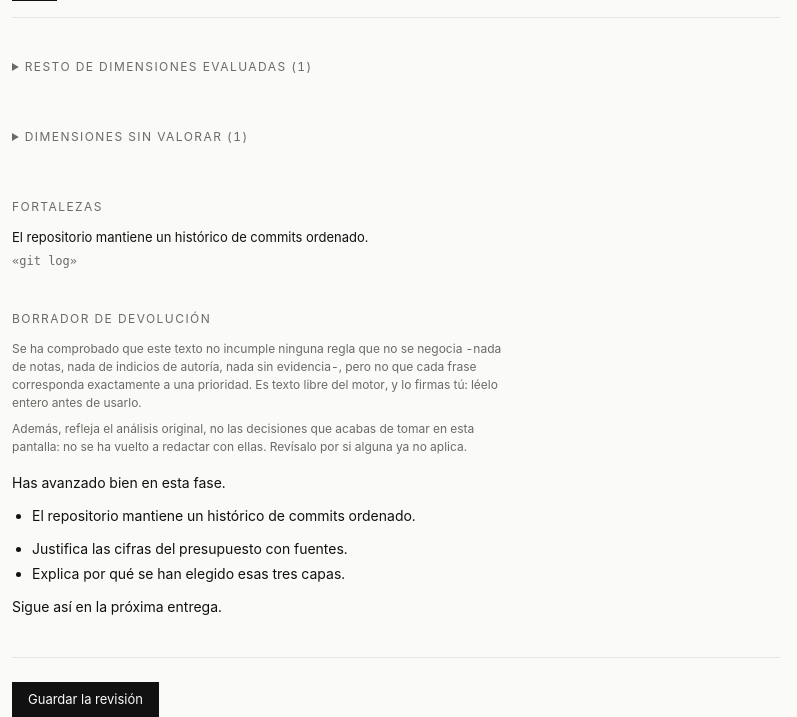
Revision › al guardar se envían todas las decisiones, incluidas las no tocadas
The width and height of the screenshot is (797, 717).
(page scrolled)
Click the button "Guardar la revisión" at (85, 699), box top-left (12, 682), bottom-right (159, 716)
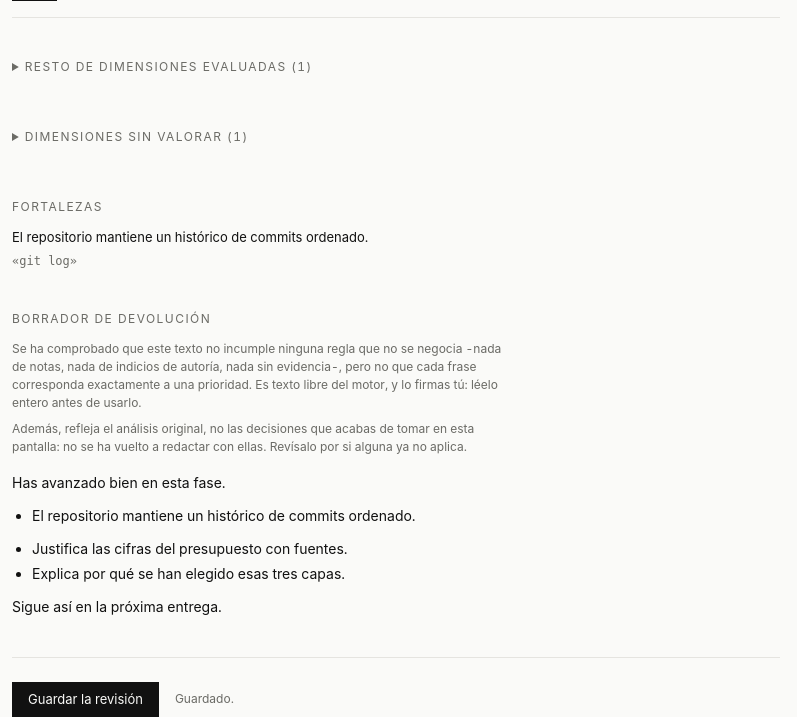
Result: the text "Guardado." is shown at top-left (175, 690), bottom-right (234, 708)
